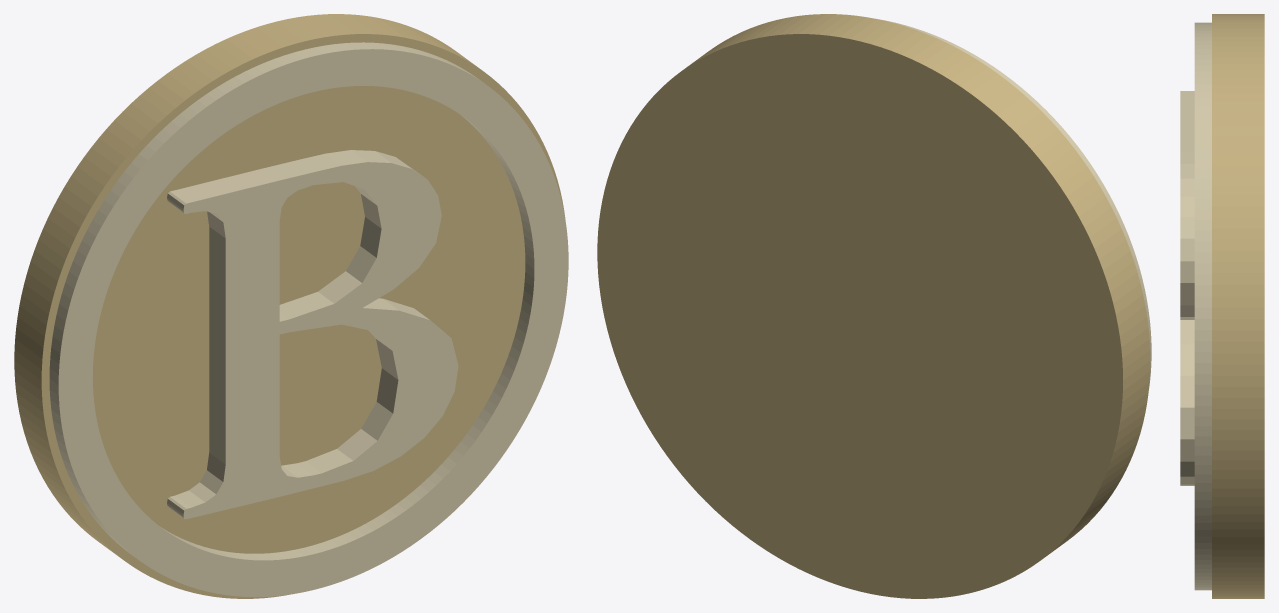
Rendered from medal-bookbug.glb.
3 views of the same model, side by side, from view 1: azimuth 30°, elevation 25°; view 2: azimuth 150°, elevation 25°; view 3: azimuth 270°, elevation 25° (orthographic). The views are drawn at different scales.
Parts seen in each view (by area): view 1: world; view 2: world; view 3: world.
Part boxes in pixels (box(x1,y1,x2,y2)): world: box(14, 14, 568, 598); world: box(597, 14, 1151, 598); world: box(1180, 14, 1264, 598).
Bounding box in the file's own units: 2 × 2 × 0.2889.
